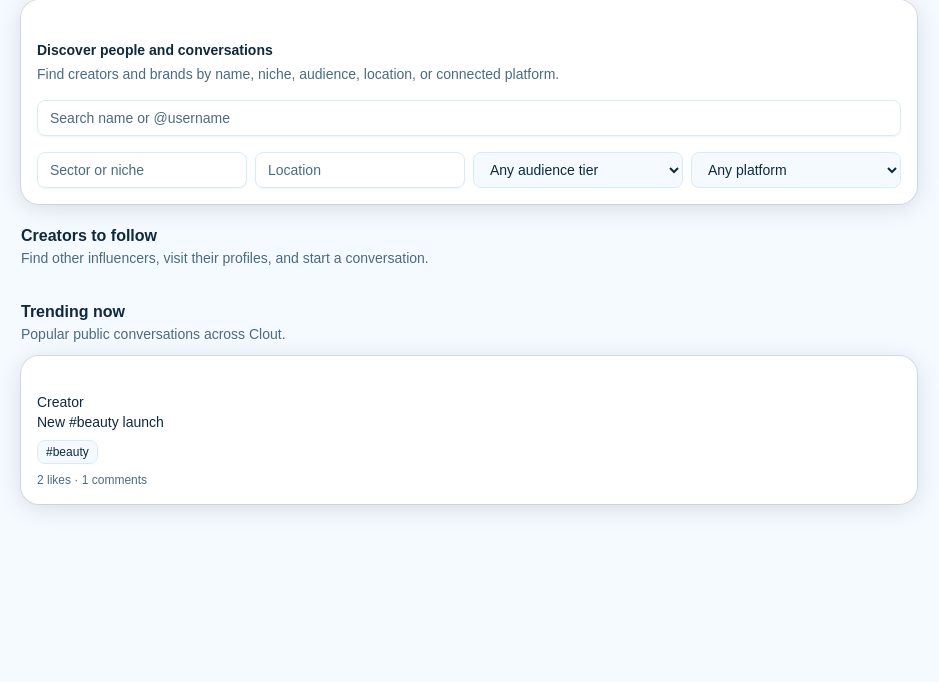
Scenario: Discovery › opens matching posts from a trending hashtag
Step 1. Click the button "#beauty" → [67, 452], box [37, 440, 98, 464]
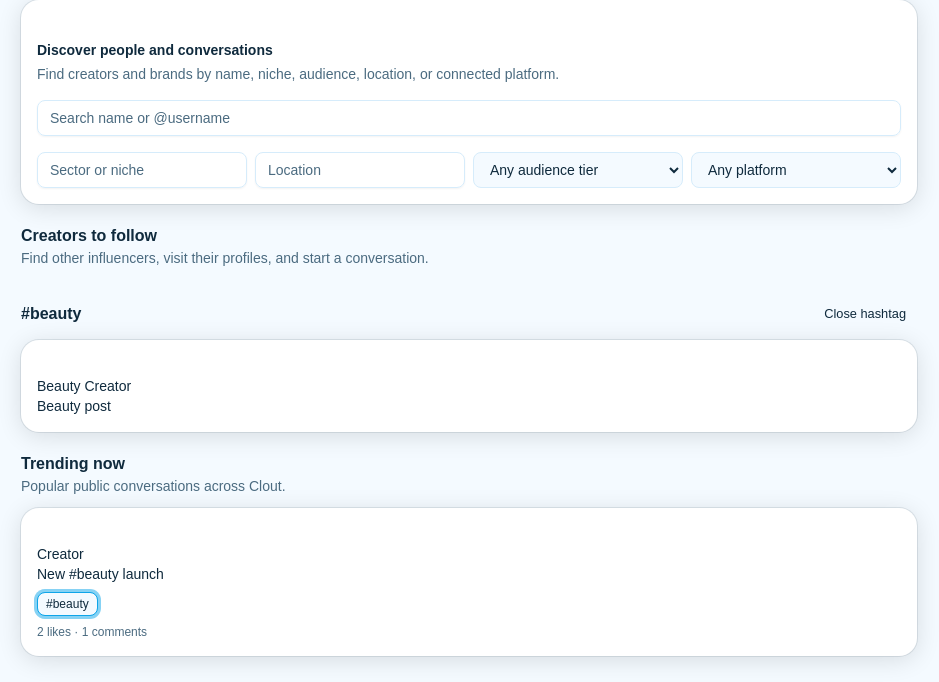
Now the text "Beauty post" is shown, box [37, 398, 111, 414]
